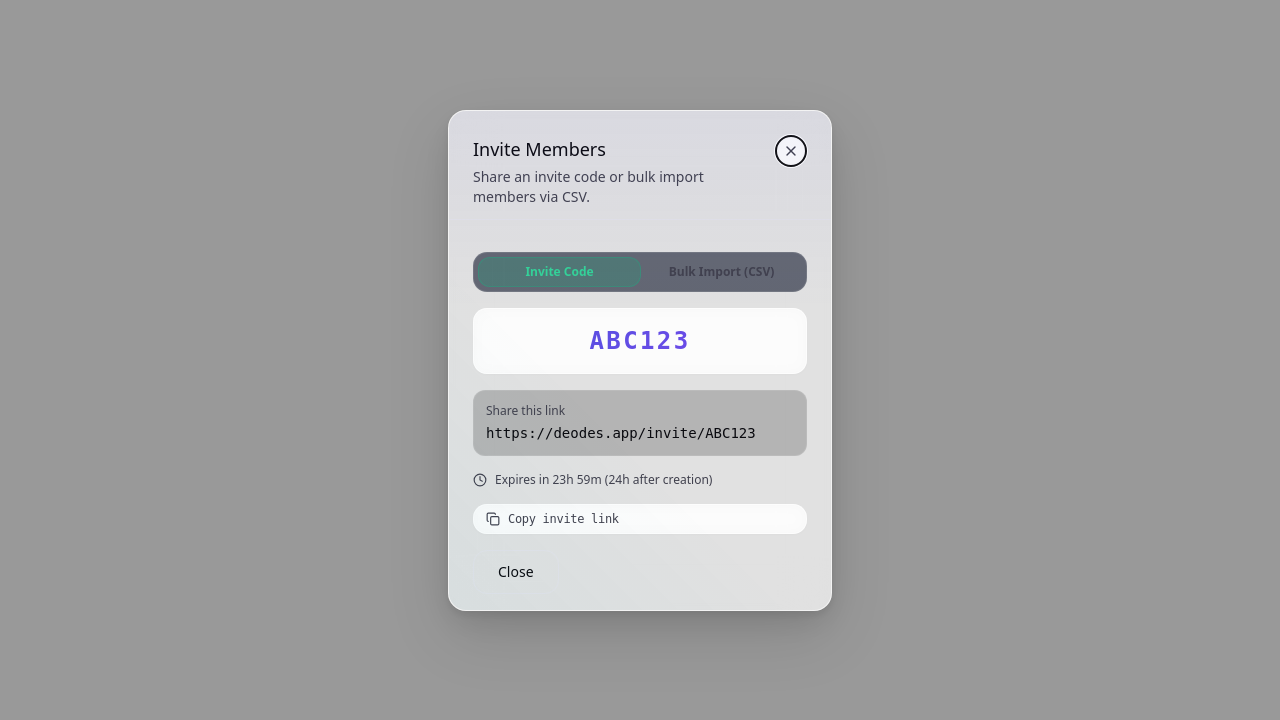
Test: CircleInviteModal › Bulk Member Import (CSV) › switches to the Bulk Import tab when clicked
The width and height of the screenshot is (1280, 720).
Click the button "Bulk Import (CSV)" at (722, 272), box [641,256,802,286]
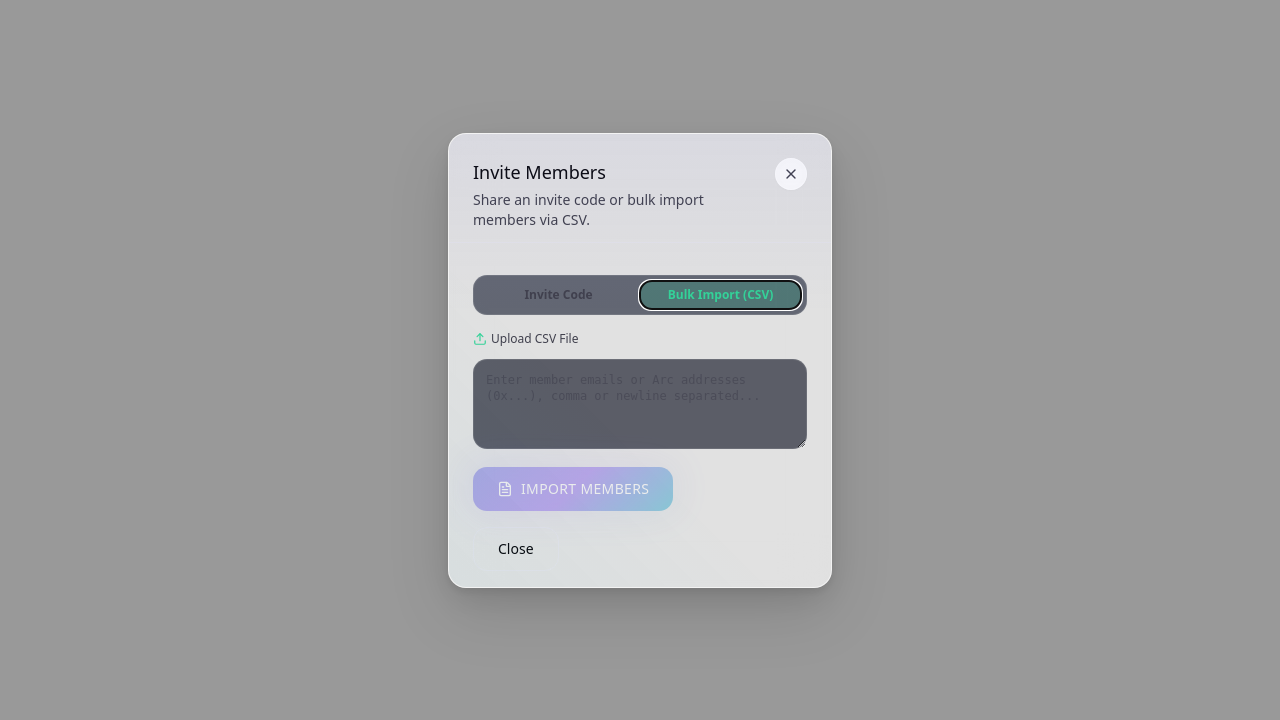
Now the text "Upload CSV File" is shown, box [491,330,578,346]
Now the text box with placeholder "Enter member emails" is shown, box [473,358,807,448]
